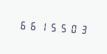five: (47, 19, 56, 34), (57, 20, 66, 34)
one: (37, 18, 46, 33)
six: (17, 17, 26, 32), (27, 18, 36, 32)
three: (77, 21, 86, 36)
zero: (67, 21, 76, 35)
